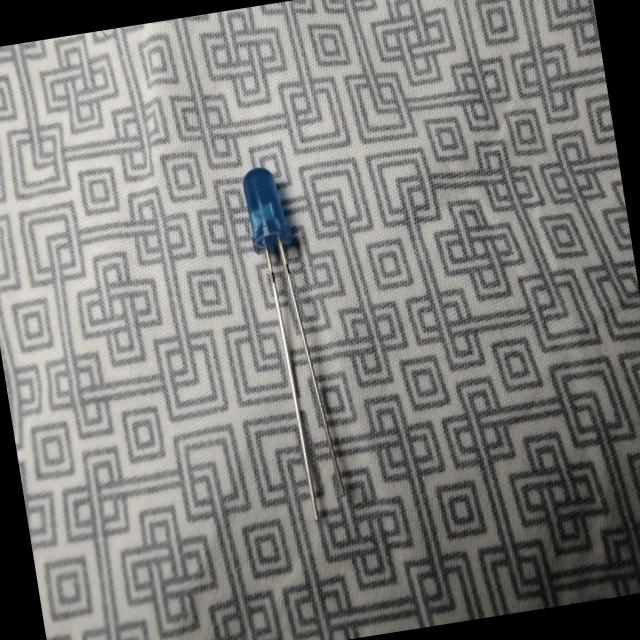blue_led: (240, 162, 296, 256)
